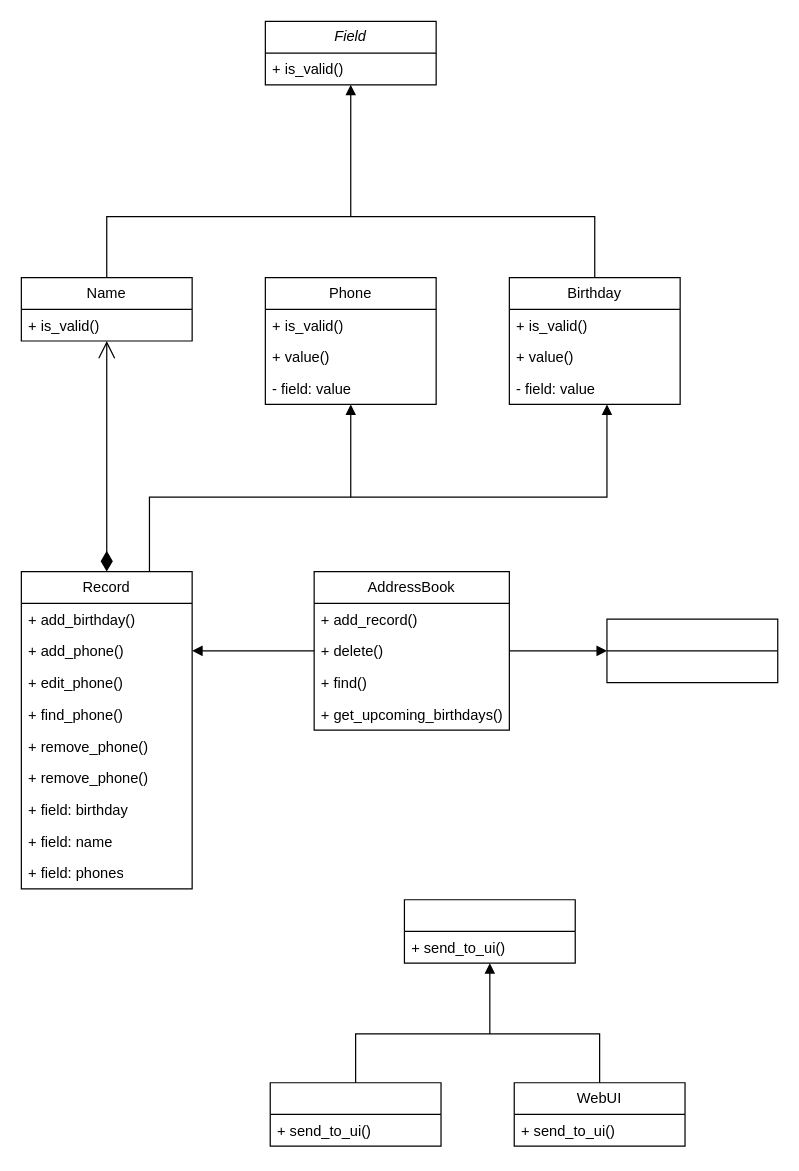
The diagram is 799 pixels wide and 1171 high, and some of its shapes have lost their labels. The box of each missing label's shape, as (x1, y1, x2, y2) in pixels:
TerminalUI: (269, 1082, 441, 1146)
UserInterface: (403, 899, 575, 963)
UserList: (606, 618, 778, 683)
